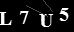5: (58, 7, 70, 22)
7: (18, 10, 30, 25)
L: (1, 10, 13, 26)
U: (38, 13, 54, 28)
